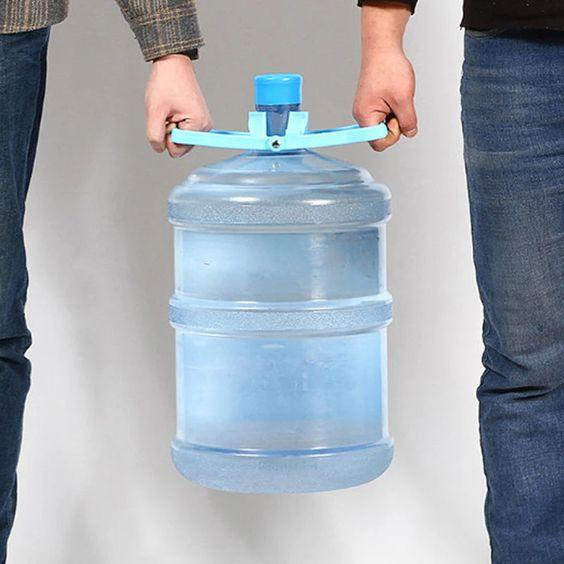HDPE: (174, 113, 390, 151), (252, 71, 300, 108)
PP: (169, 151, 392, 493)
